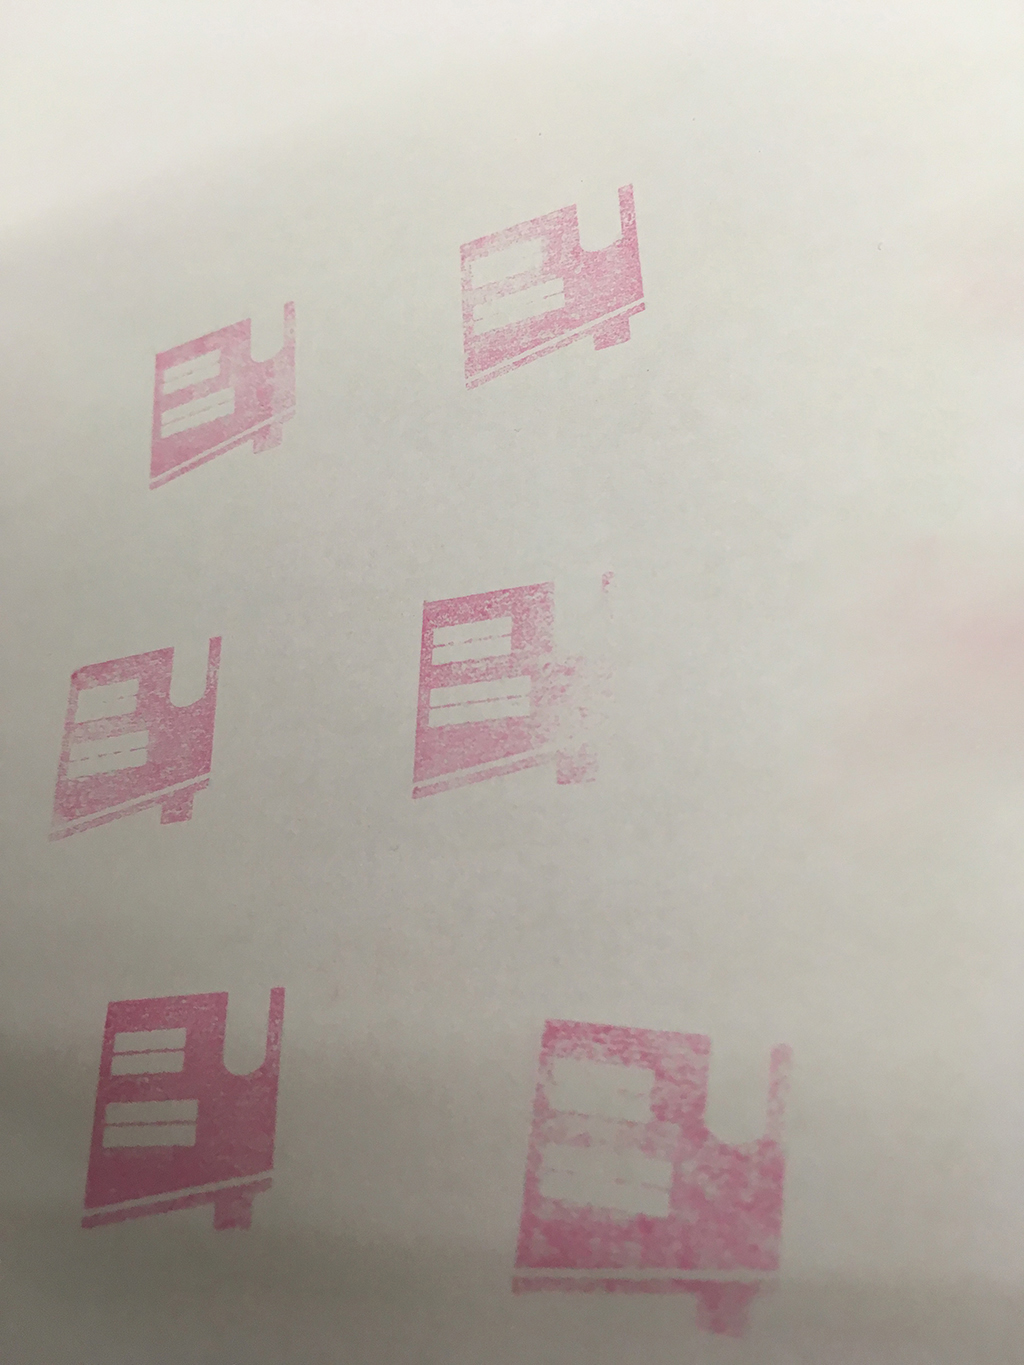house: (504, 996, 817, 1336), (51, 963, 305, 1256), (394, 566, 655, 809), (424, 177, 663, 394), (32, 620, 231, 859), (137, 297, 316, 508)
